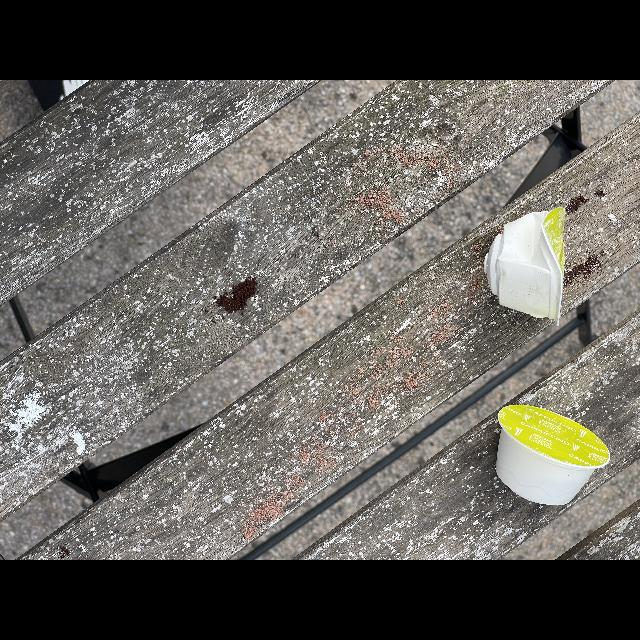damaged_capsule: (476, 196, 582, 330)
intact_capsule: (486, 395, 620, 513)
